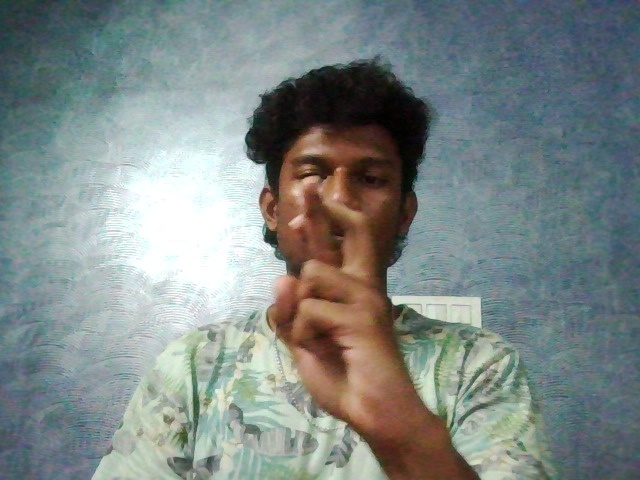hope: (255, 158, 463, 455)
